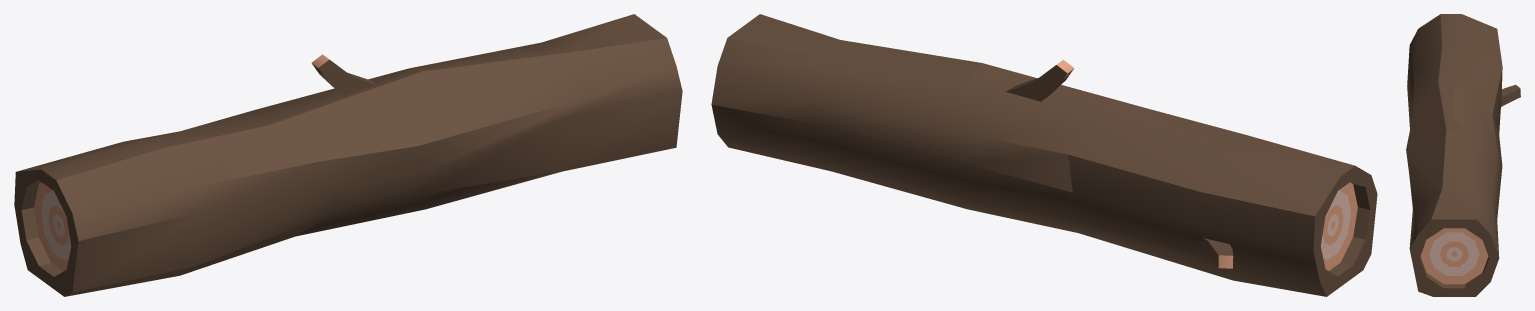
File: log.fbx
3 renders of one model, left to right at view 1: azimuth 30°, elevation 25°; view 2: azimuth 150°, elevation 25°; view 3: azimuth 270°, elevation 25°, orthographic. The views are drawn at different scales.
Visible parts, largest first — view 1: Cylinder; view 2: Cylinder; view 3: Cylinder.
Part boxes in pixels (box(x1,y1,x2,y2)): Cylinder: box(14, 14, 682, 296); Cylinder: box(711, 14, 1377, 296); Cylinder: box(1406, 14, 1520, 296).
Size of the model in its own units: 2.32 by 0.5927 by 0.5481.
